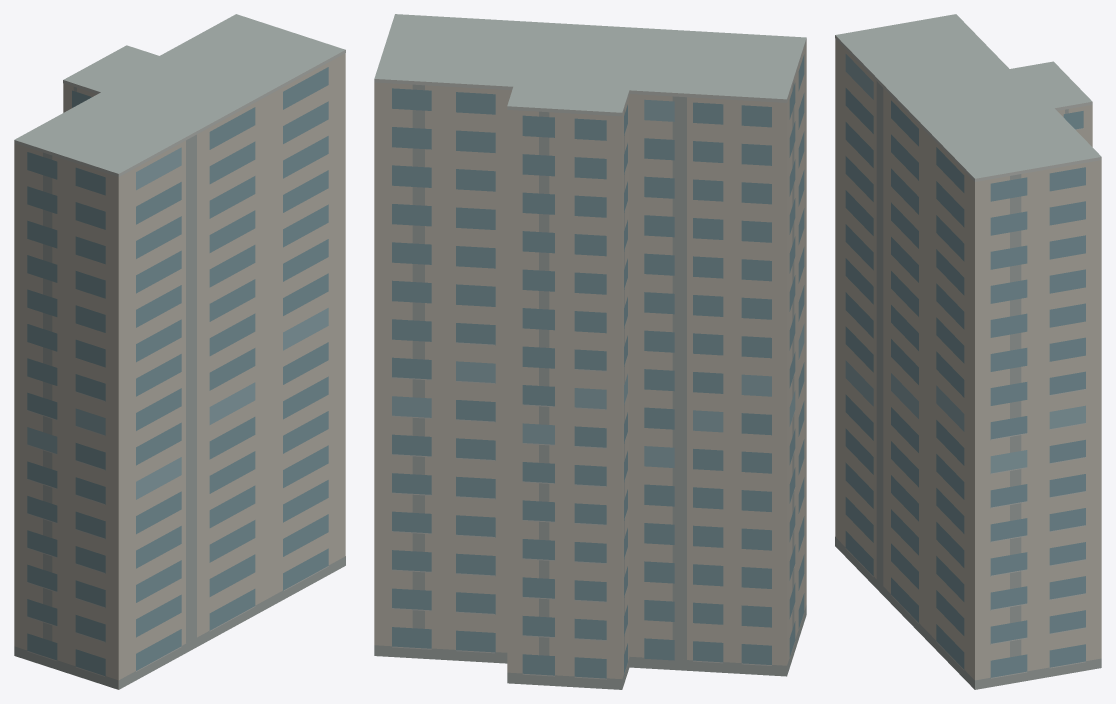
The model's file is residential-58bcba1b-07a5-4ed0-9d97-a097d0d253df.glb.
The picture shows the model from 3 angles, left to right: view 1: azimuth 30°, elevation 25°; view 2: azimuth 150°, elevation 25°; view 3: azimuth 270°, elevation 25°; orthographic projection. The views are drawn at different scales.
Visible parts, largest first — view 1: residential-58bcba1b-07a5-4ed0-9d97-a097d0d253df.tmp; view 2: residential-58bcba1b-07a5-4ed0-9d97-a097d0d253df.tmp; view 3: residential-58bcba1b-07a5-4ed0-9d97-a097d0d253df.tmp.
Boxes of the visible parts, left/top/right/bottom form: residential-58bcba1b-07a5-4ed0-9d97-a097d0d253df.tmp: left=14, top=14, right=345, bottom=689; residential-58bcba1b-07a5-4ed0-9d97-a097d0d253df.tmp: left=374, top=14, right=806, bottom=689; residential-58bcba1b-07a5-4ed0-9d97-a097d0d253df.tmp: left=835, top=14, right=1101, bottom=689.
Bounding box in the file's own units: 26.98 × 39 × 18.45.
